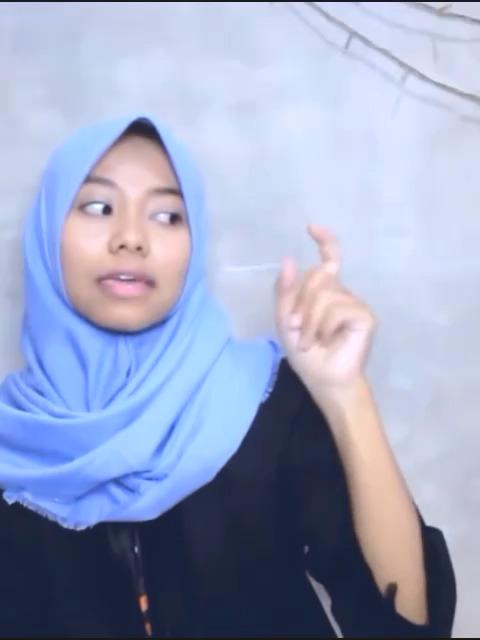X: (264, 217, 379, 385)
